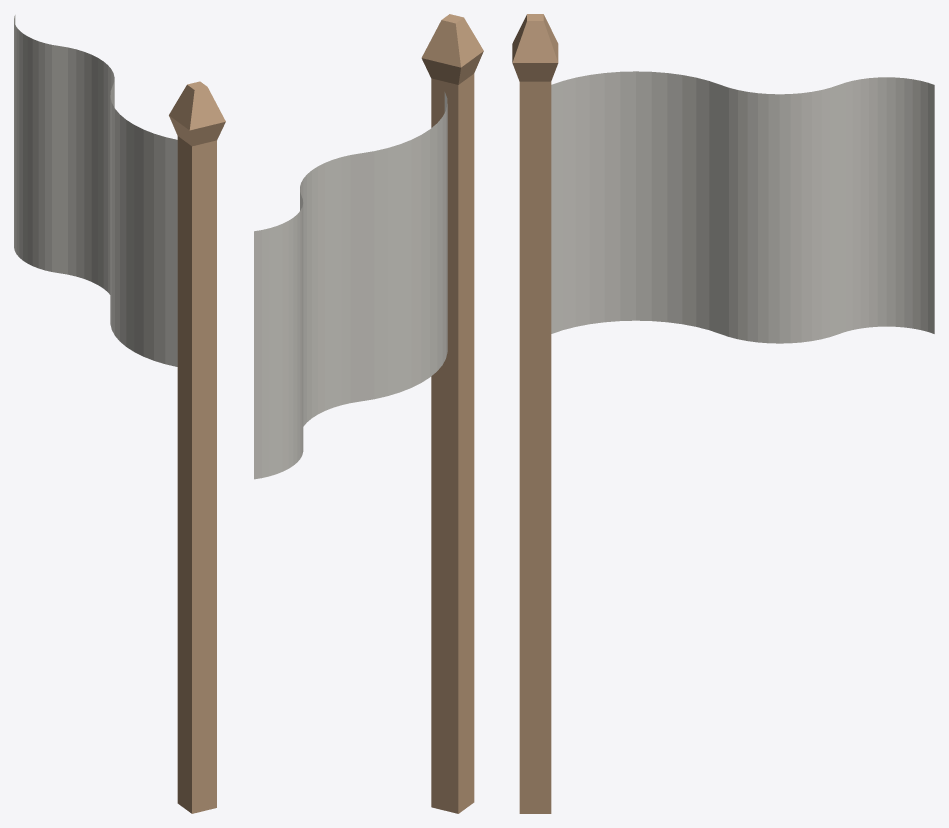
File: flagwhitewide.glb
3 views of the same model, side by side, from view 1: azimuth 30°, elevation 25°; view 2: azimuth 150°, elevation 25°; view 3: azimuth 270°, elevation 25° (orthographic). The views are drawn at different scales.
Visible parts, largest first — view 1: Group 288, flagWhiteWide; view 2: Group 288, flagWhiteWide; view 3: Group 288, flagWhiteWide.
Boxes of the visible parts, x1,y1,x2,y2 form: Group 288: (14, 15, 177, 366); flagWhiteWide: (169, 81, 225, 813); Group 288: (254, 92, 447, 479); flagWhiteWide: (421, 14, 483, 813); Group 288: (551, 71, 934, 343); flagWhiteWide: (512, 14, 558, 813).
Size of the model in its own units: 0.4988 by 7.92 by 3.84.
